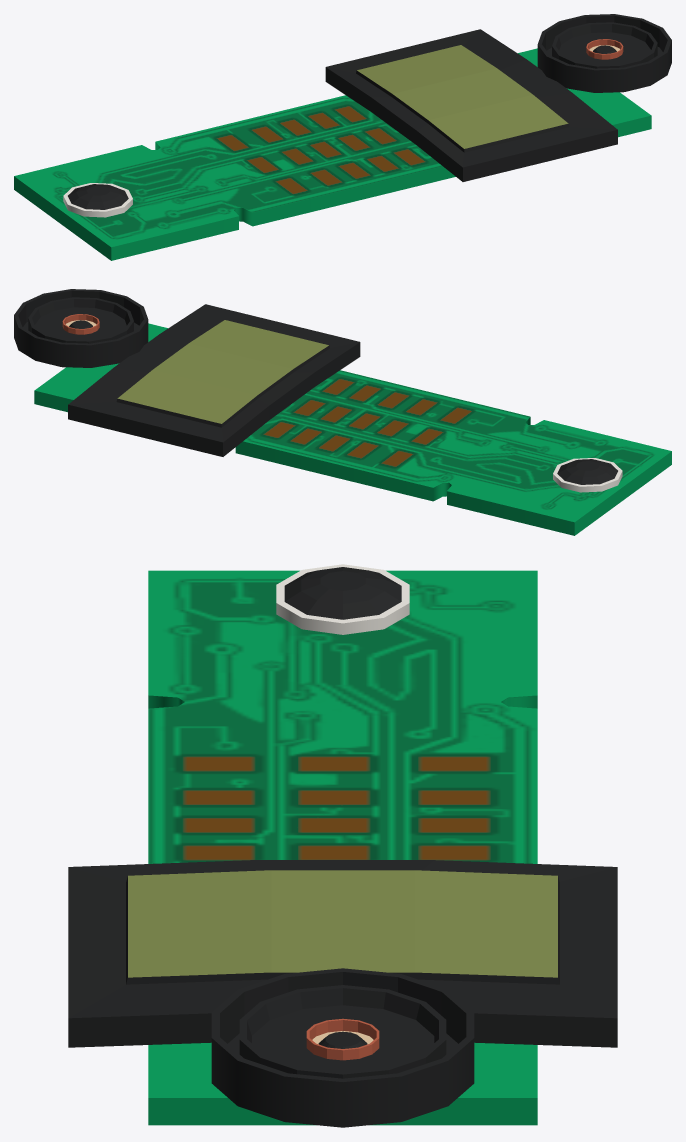
The model's file is Telephone module.fbx.
The picture shows the model from 3 angles, top to bottom: view 1: azimuth 30°, elevation 25°; view 2: azimuth 150°, elevation 25°; view 3: azimuth 270°, elevation 25°; orthographic projection. The views are drawn at different scales.
Visible parts, largest first — view 1: telephone_module_with_display; view 2: telephone_module_with_display; view 3: telephone_module_with_display.
Part boxes in pixels (<box>): telephone_module_with_display: <box>14,14,671,260</box>; telephone_module_with_display: <box>14,289,671,535</box>; telephone_module_with_display: <box>68,564,617,1127</box>.
Bounding box in the file's own units: 1.06 × 0.0861 × 0.4213.
